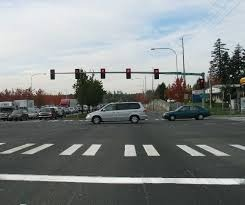car: (86, 102, 147, 124), (163, 105, 209, 120), (8, 109, 28, 121), (38, 107, 56, 119), (0, 107, 13, 120), (124, 67, 132, 79), (28, 109, 37, 118), (57, 107, 65, 117), (64, 107, 71, 115), (68, 107, 75, 113)
crosswalk: (0, 143, 55, 154), (196, 145, 229, 156)
